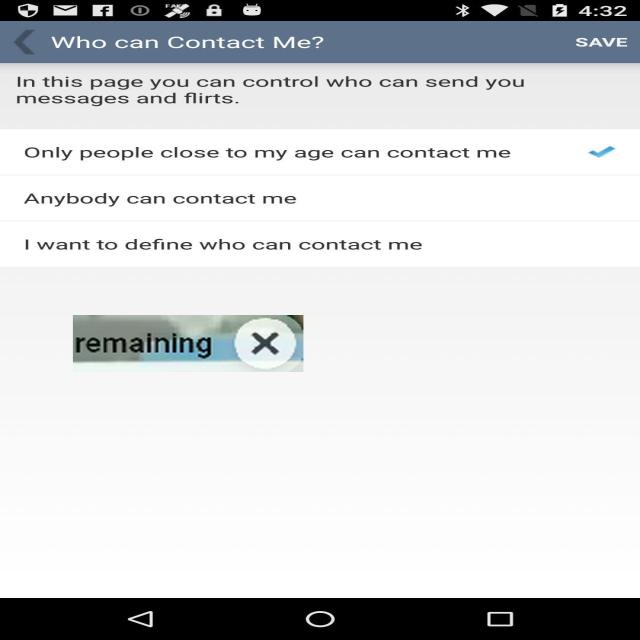misdirection: (73, 315, 303, 372)
